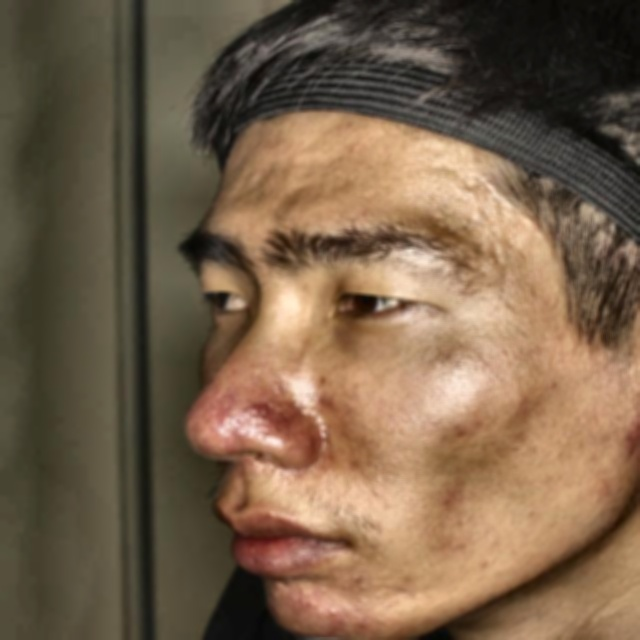comedone: (607, 437, 639, 459)
